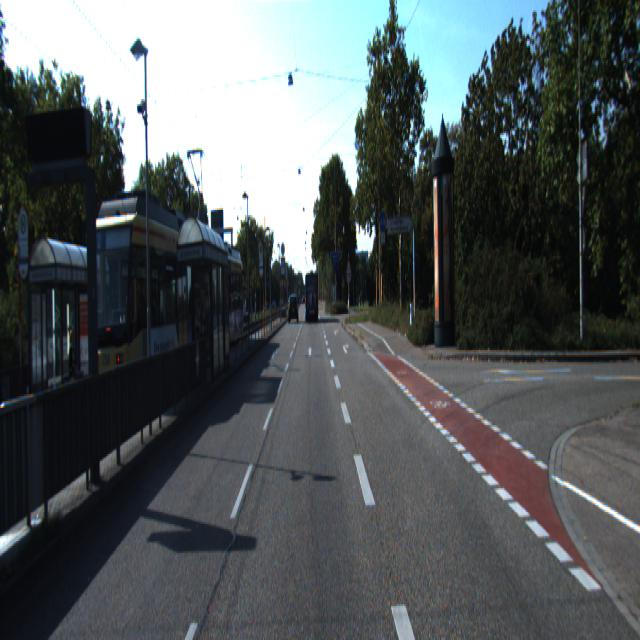Car: (76, 200, 225, 428), (197, 246, 248, 358), (305, 272, 319, 322), (288, 294, 298, 324)
